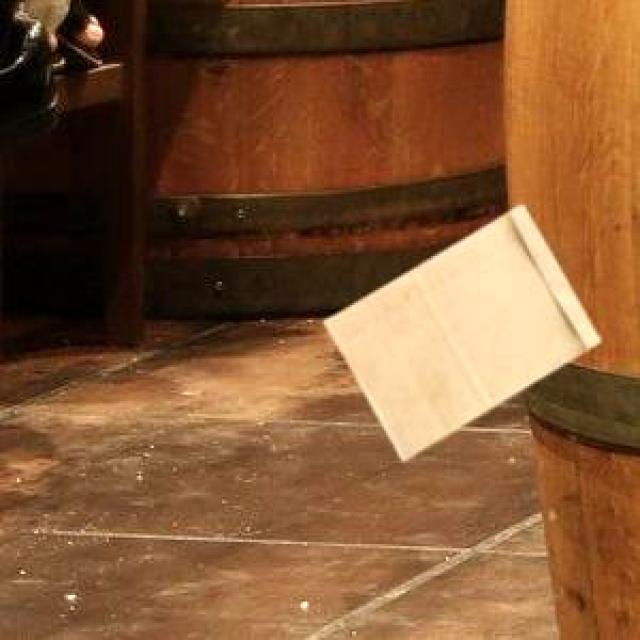Paper_Bag: (321, 204, 596, 456)
